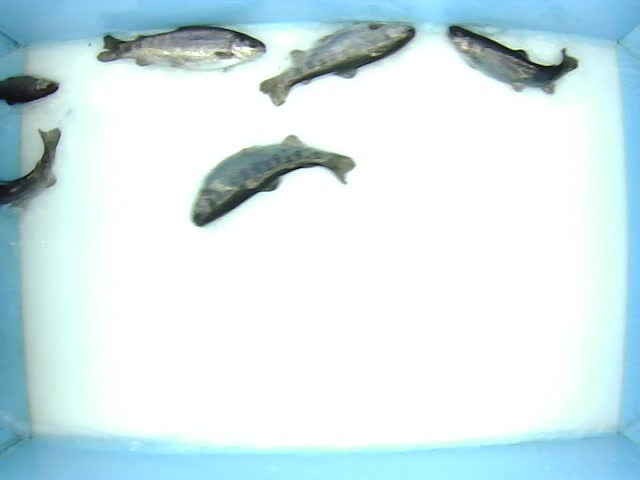fish: (186, 122, 357, 235), (252, 17, 422, 109), (442, 20, 586, 99), (93, 26, 268, 73)
